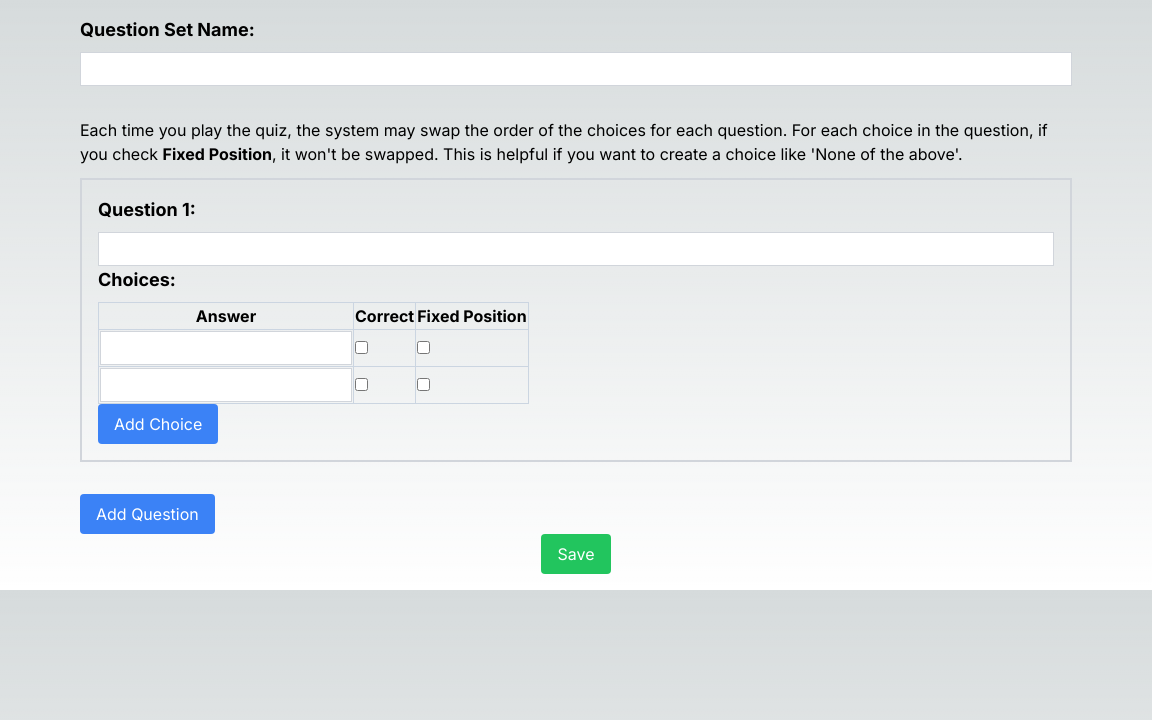
Test: QuestionSetEditor › should reject saving question set when empty question description
Type "Dummy name" into the field labelled "Question Set Name:" at [576, 69], box [80,52,1072,86]
Type "1 + 1 = ?" into the field labelled "Question 1:" at [576, 249], box [98,232,1054,266]
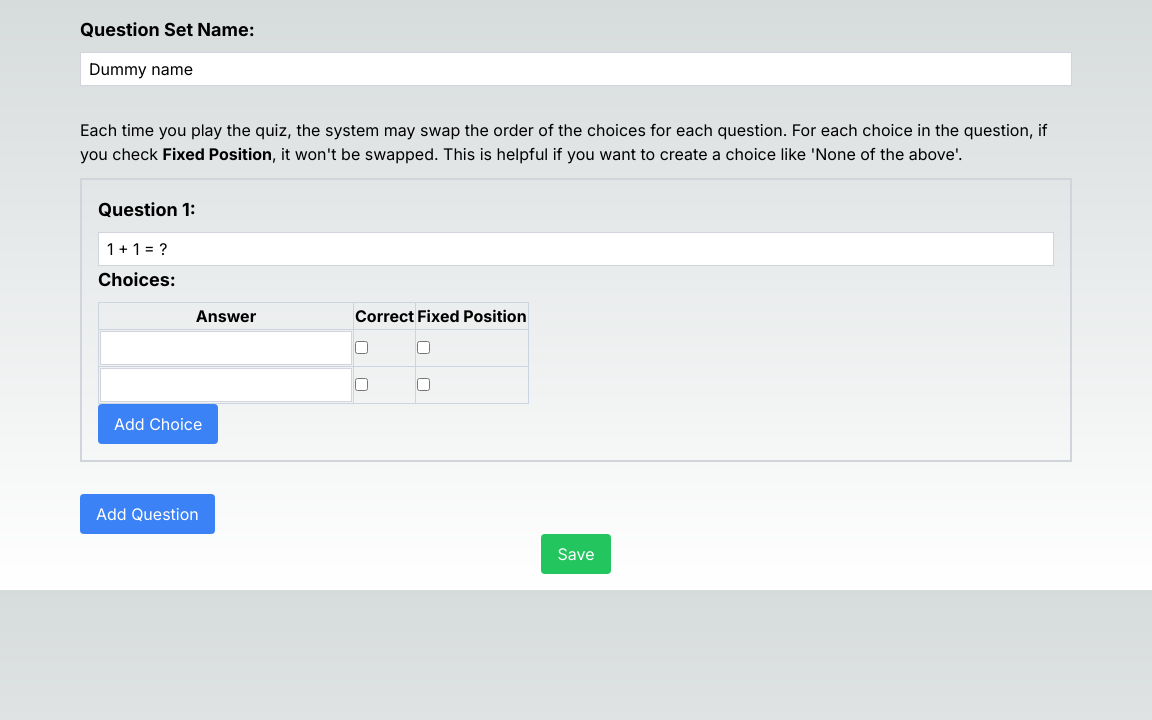
Type "2" into the field named "answer of question 1 choice 1" at [226, 348], box [100,331,352,365]
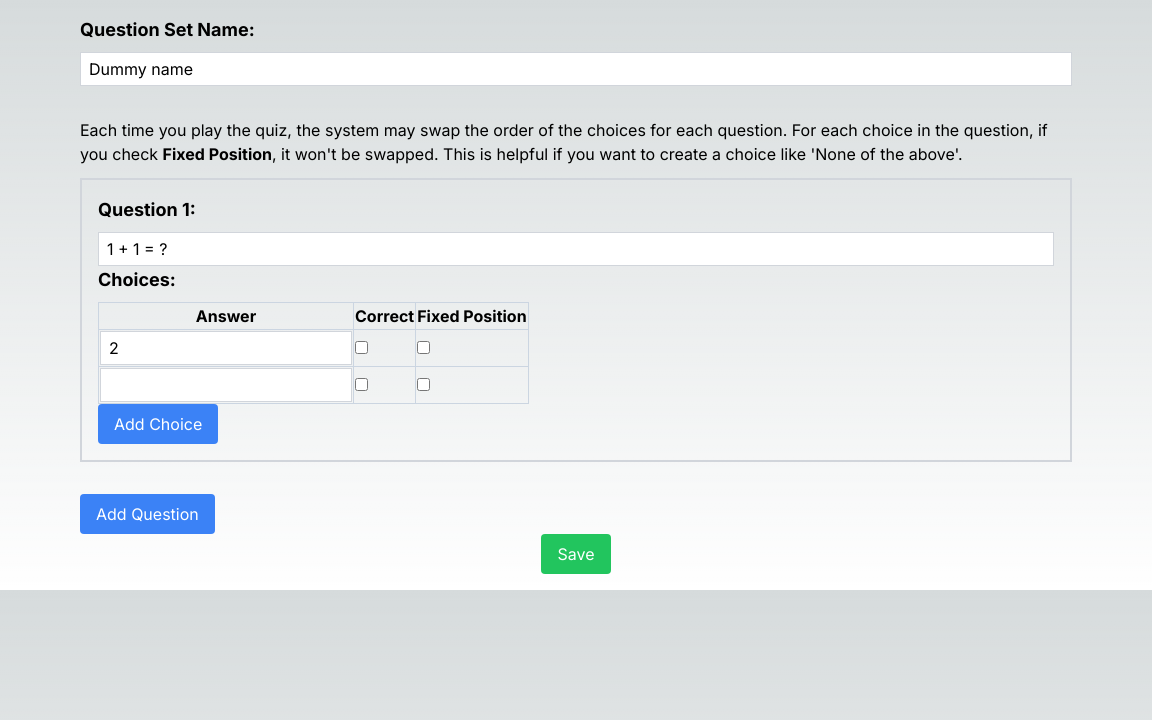
Type "0" into the field named "answer of question 1 choice 2" at [226, 385], box [100,368,352,402]
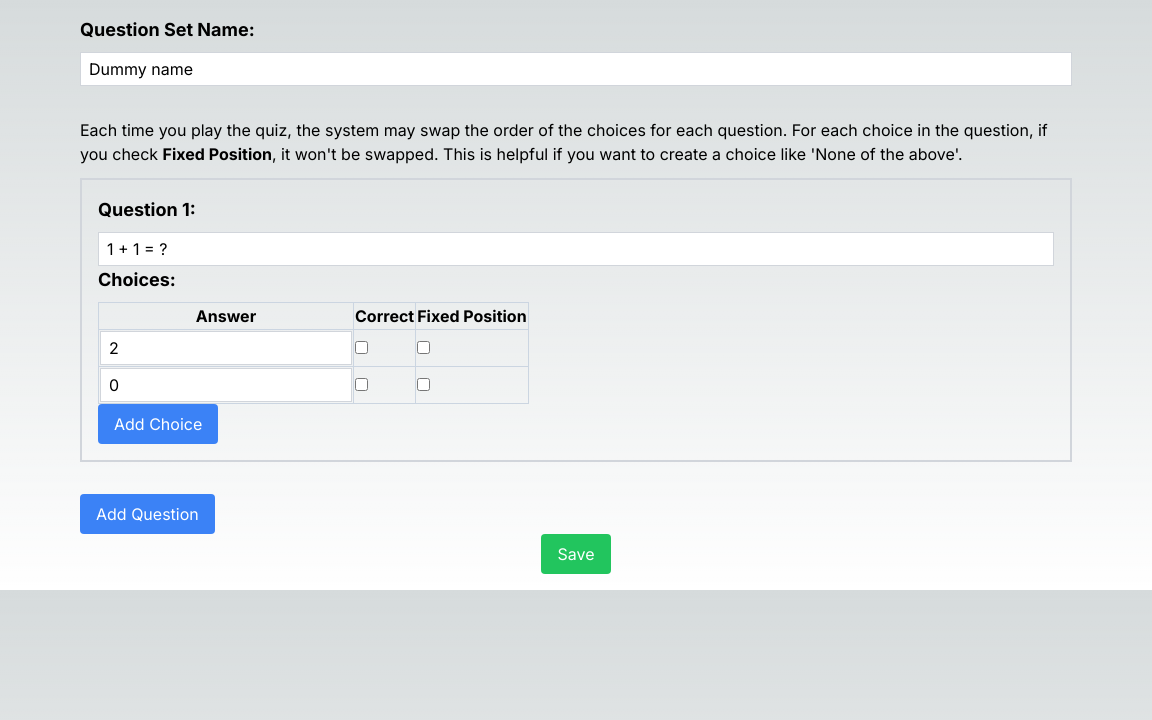
Click the checkbox named "question 1 choice 1 is correct answer" at [362, 348], box [355,341,368,354]
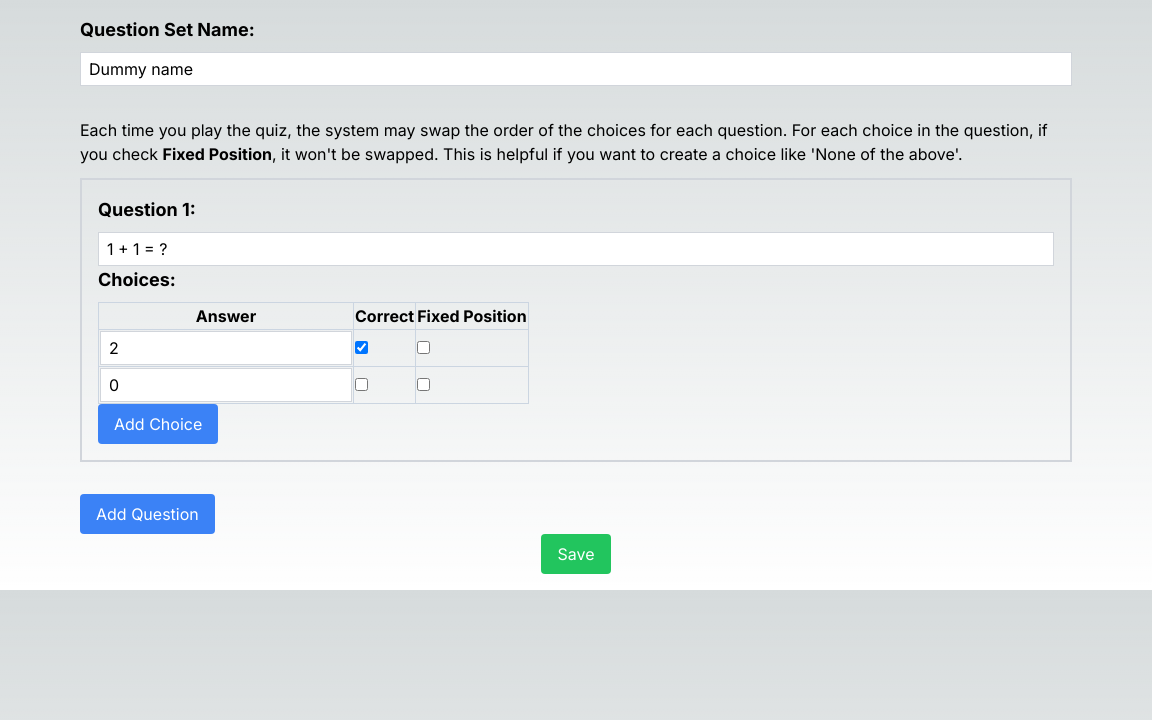
Clear the field labelled "Question 1:" at [576, 249], box [98,232,1054,266]
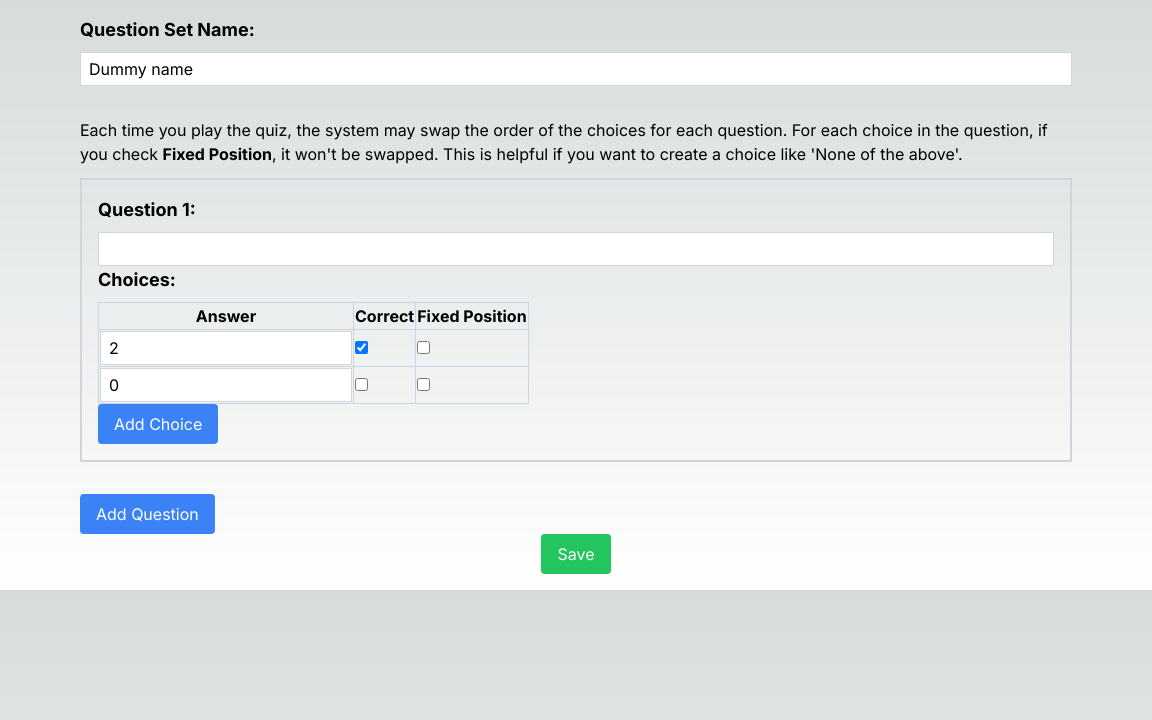
Click the button "Save" at [576, 554], box [542,534,610,574]
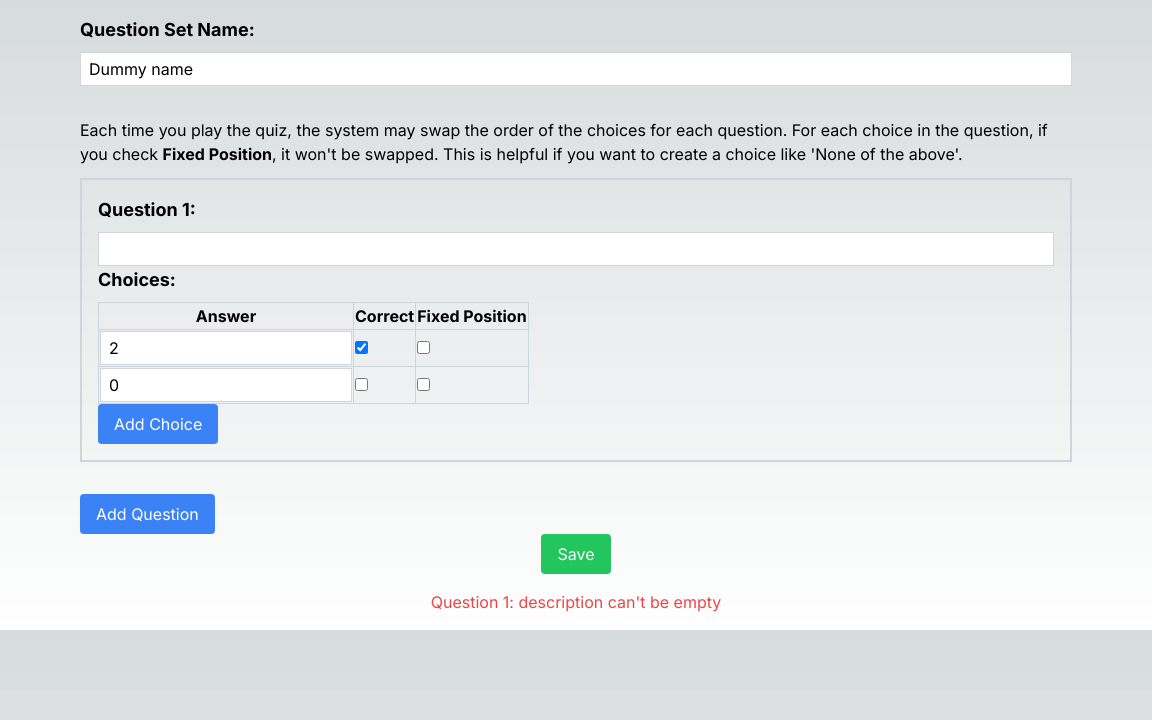
Expected: the text named "error prompt" reads "Question 1: description can't be empty", [431,592,721,612]
